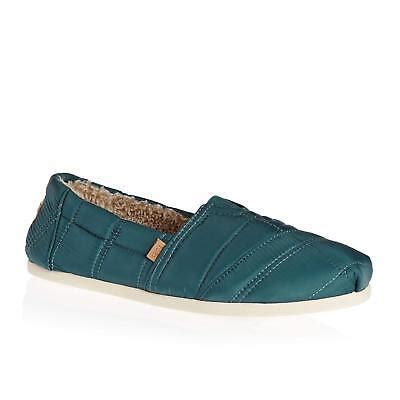nylon: (26, 172, 372, 304)
